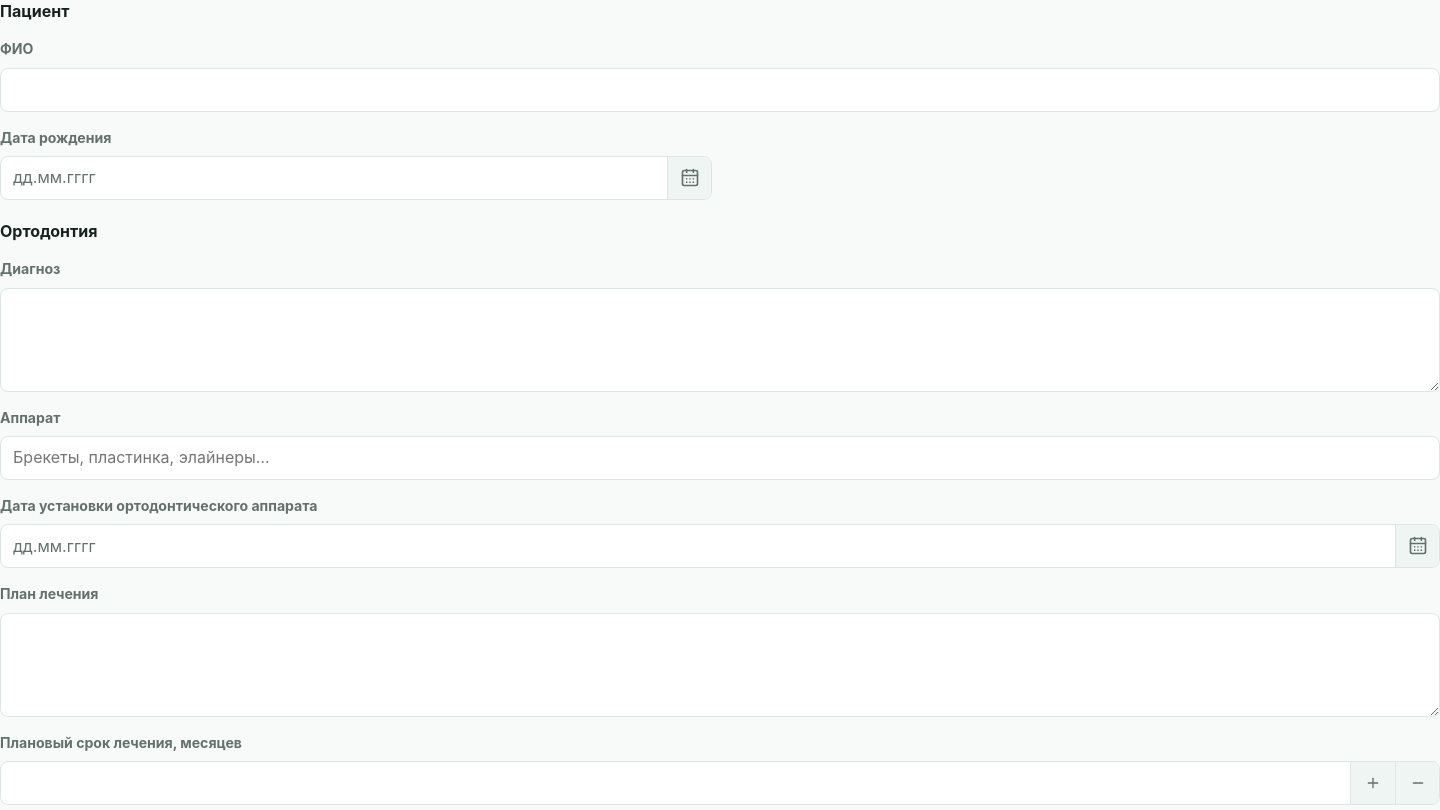
Scenario: PatientForm › rejects a future installation date
The image size is (1440, 810).
Type "Тестовый пациент" into the field labelled "ФИО" at (720, 90), box top-left (0, 68), bottom-right (1439, 112)
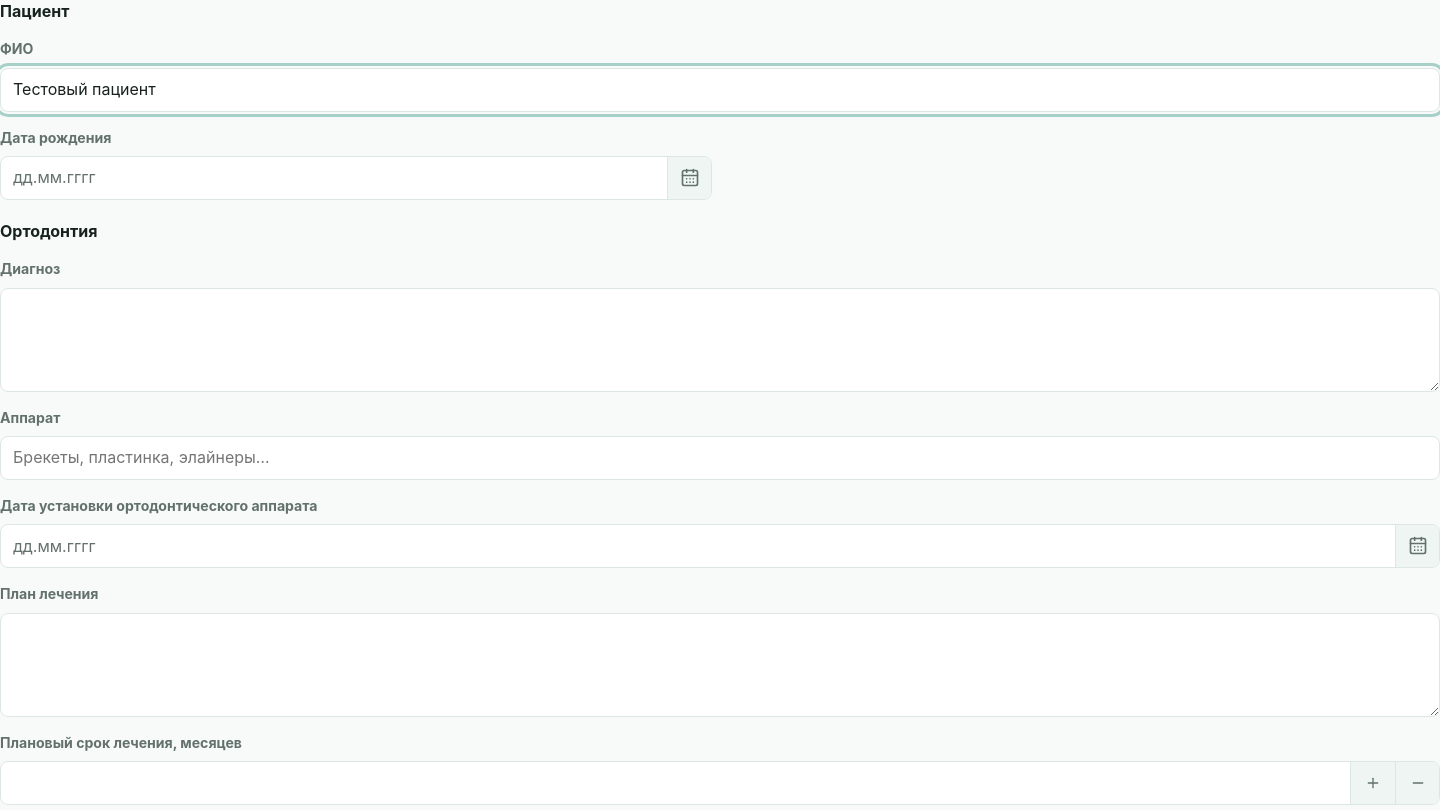
Type "01.01.2099" into the field labelled "Дата установки ортодонтического аппарата" at (698, 546), box top-left (1, 535), bottom-right (1395, 558)
(page scrolled)
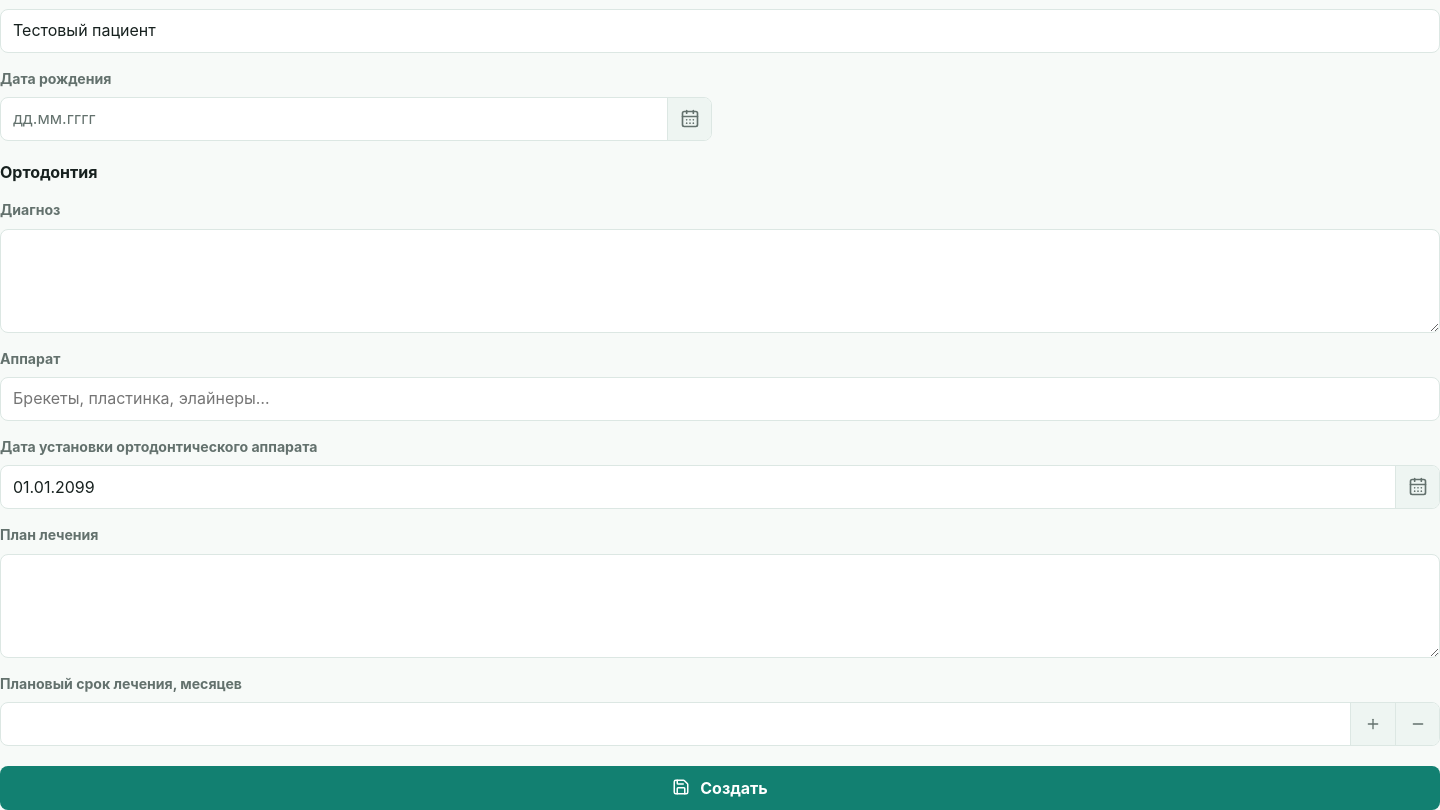
Click the button "Создать" at (720, 788), box top-left (0, 766), bottom-right (1439, 809)
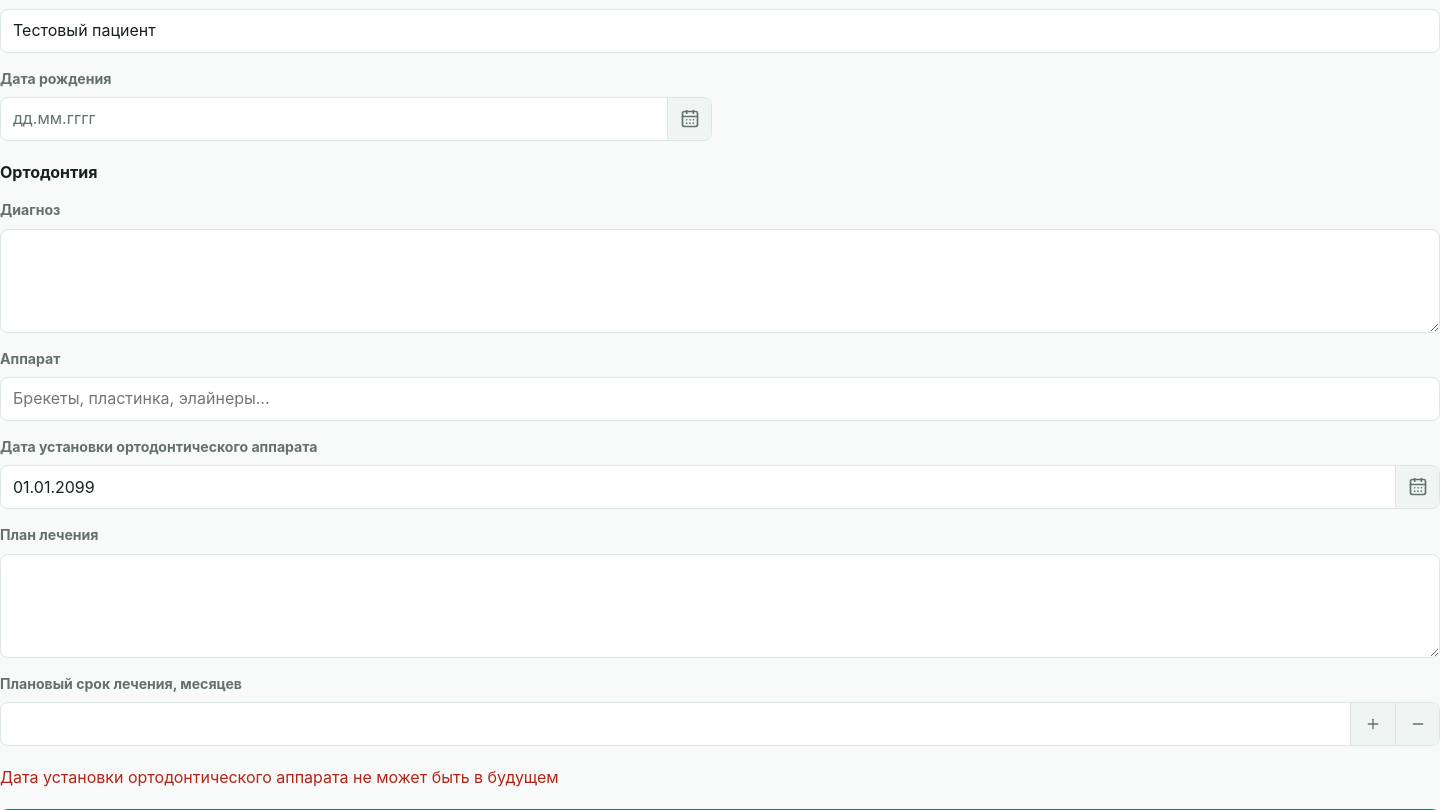
Now the message shows "не может быть в будущем", box top-left (0, 767), bottom-right (559, 787)
